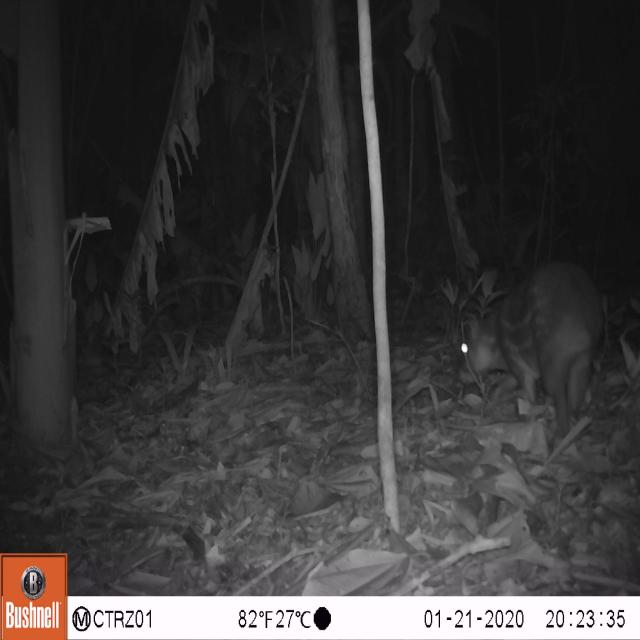Spotted Paca: (440, 260, 612, 441)
